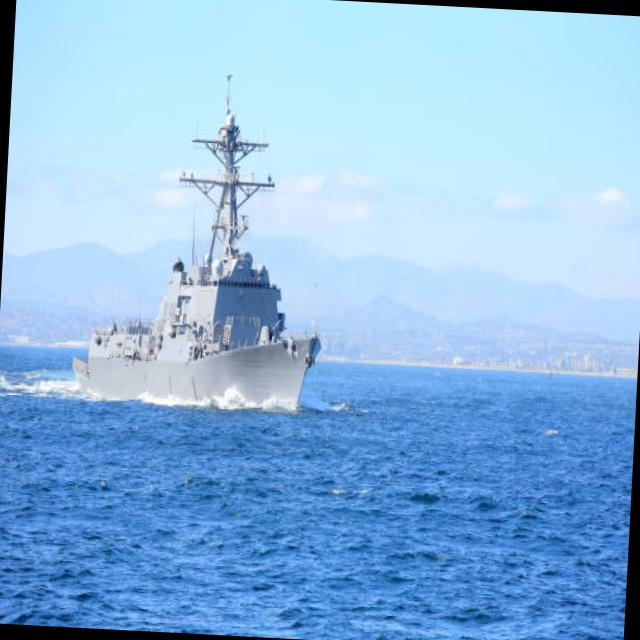Military: (72, 75, 321, 413)
